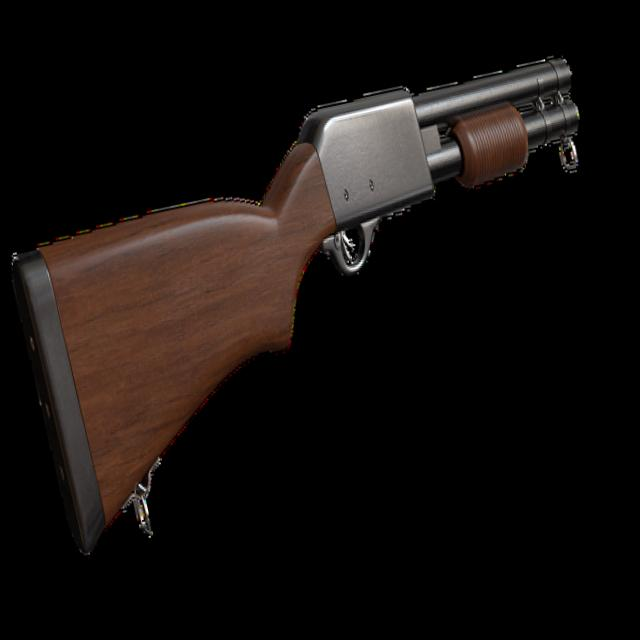Weapon: (0, 50, 640, 564)
